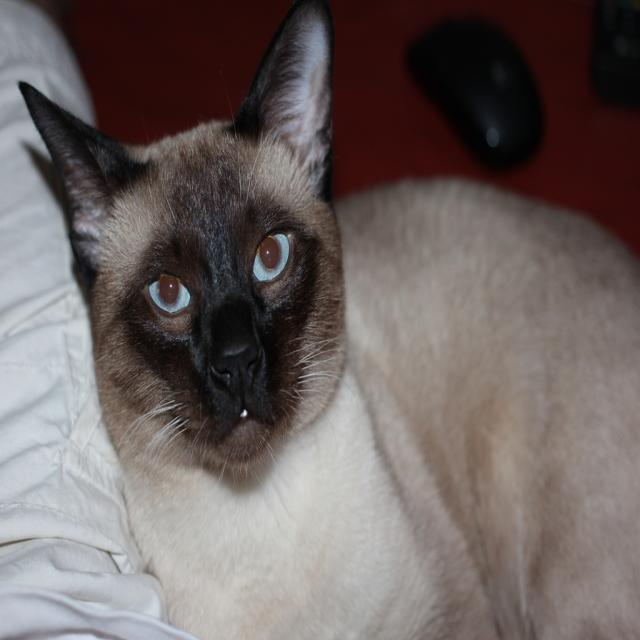Cat: (15, 0, 639, 639)
